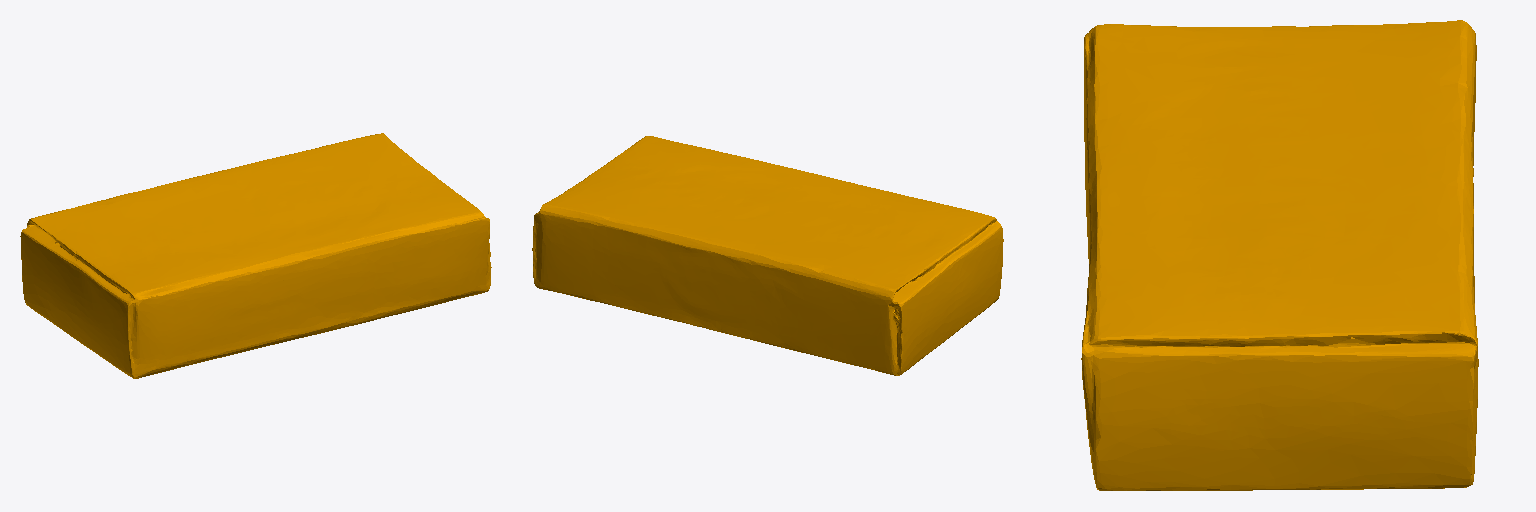
robot.urdf — cream_cheese:
<?xml version="1.0"?>
<!-- GENERATED by tasks/libero/build_env/build_object_urdf.py. Do not hand edit.

     LIBERO object `cream_cheese`, spawnable by the TRO-MP env.
     Role: graspable target object (envs/), one of the 22 LIBERO target assets.

     WHY a URDF when envs/cream_cheese/ may also hold a USD: this env spawns objects
     only through `assets.object_urdf` (scene_utils.py:1929, which calls
     _convert_urdf_to_usd at :1964). The assets dataclass declares no USD field,
     so a ready-made USD cannot be handed to this code path.

     Mesh coordinates are PRESERVED, not re-centred: 11 of 22 LIBERO envs have
     their mesh origin at the object's base, and `goal_traj` tracks that origin.
     Re-centring would offset the object from its own trajectory every frame.

     Mass: density 800.0 kg/m^3 x mesh volume 6.195965e-05 m^3
     Inertia: solid-box approximation about the COM at that mass, NOT the true
     mesh inertia tensor. Adequate for a graspable tabletop object; revisit if
     spin dynamics matter.

     Collision: the full mesh, decomposed by Isaac's URDF importer. The convex
     decomposition authored in the DexVerse USD is NOT reproduced here.
-->
<robot name="cream_cheese">
  <link name="cream_cheese">
    <inertial>
      <origin xyz="0.000171 0.000123 -0.000110" rpy="0 0 0"/>
      <mass value="0.049568"/>
      <inertia ixx="9.035878e-06" ixy="0" ixz="0" iyy="2.992067e-05" iyz="0" izz="3.585216e-05"/>
    </inertial>
    <visual>
      <origin xyz="0 0 0" rpy="0 0 0"/>
      <geometry><mesh filename="cream_cheese.obj" scale="1 1 1"/></geometry>
    </visual>
    <collision>
      <origin xyz="0 0 0" rpy="0 0 0"/>
      <geometry><mesh filename="cream_cheese.obj" scale="1 1 1"/></geometry>
    </collision>
  </link>
</robot>

--- Render facts (derived) ---
The picture shows the robot from 3 angles, left to right: view 1: azimuth 30°, elevation 25°; view 2: azimuth 150°, elevation 25°; view 3: azimuth 270°, elevation 25°; orthographic projection.
Model cream_cheese with 1 links and 0 joints (none), rooted at cream_cheese, posed every joint at zero.
Links seen in each view (by area): view 1: cream_cheese; view 2: cream_cheese; view 3: cream_cheese.
Link boxes in pixels (x1,y1,x2,y2): cream_cheese: [20, 133, 491, 378]; cream_cheese: [532, 136, 1003, 375]; cream_cheese: [1081, 20, 1478, 490].
Bounding box of the posed robot: 0.0829 × 0.0426 × 0.0194 m (x, y, z).
1 mesh visuals loaded from 1 distinct referenced files (1 OBJ).
